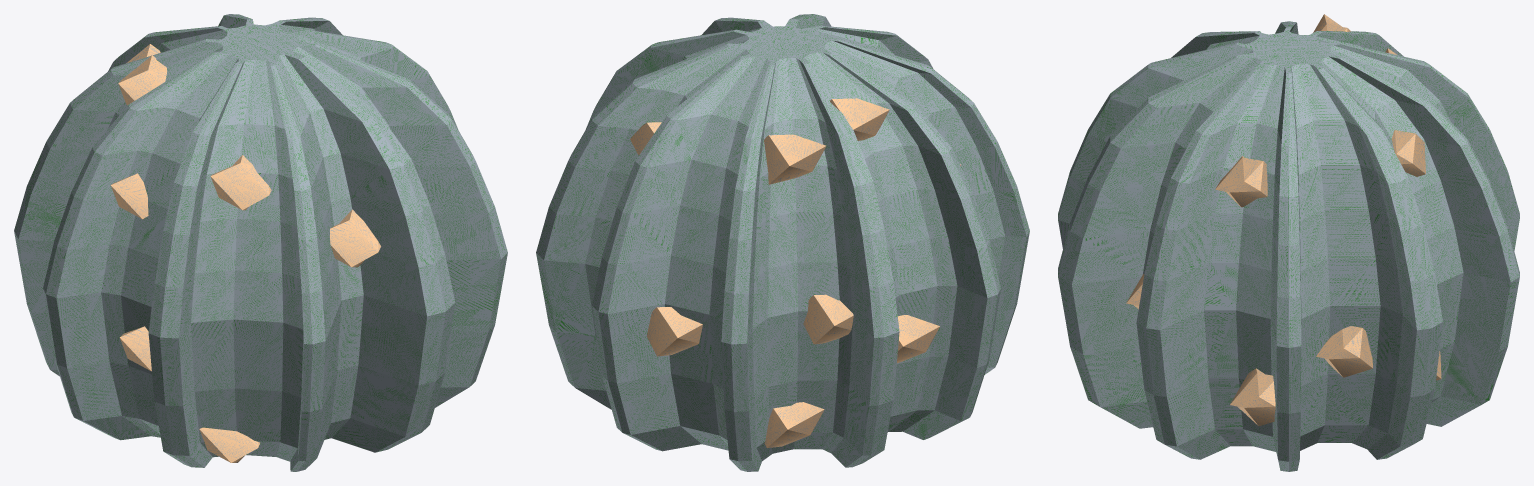
Rendered from Cactus_04.fbx.
The picture shows the model from 3 angles, left to right: view 1: azimuth 30°, elevation 25°; view 2: azimuth 150°, elevation 25°; view 3: azimuth 270°, elevation 25°; orthographic projection. The views are drawn at different scales.
Visible parts, largest first — view 1: Model; view 2: Model; view 3: Model.
Boxes of the visible parts, x1,y1,x2,y2 form: Model: (14,14,507,471); Model: (536,14,1029,471); Model: (1058,14,1519,471).
Size of the model in its own units: 98.74 by 78.77 by 93.91.
